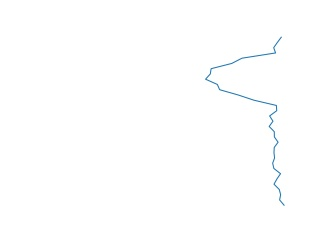distalBar: (199, 36, 291, 206)
